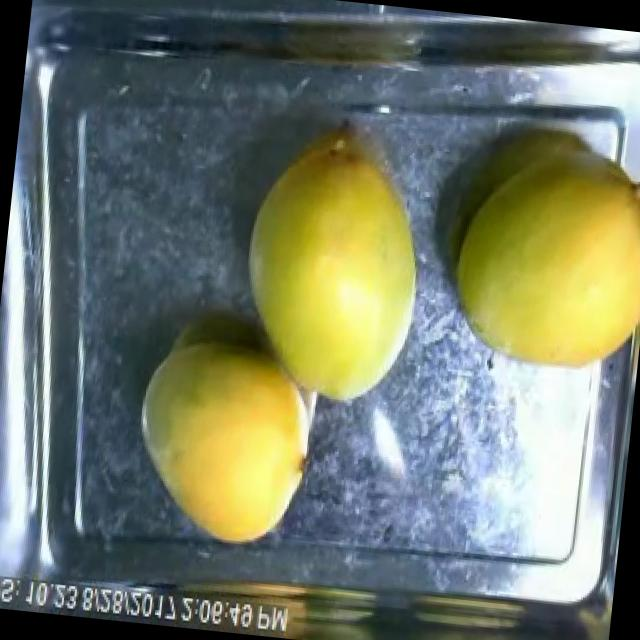fruit: (218, 106, 447, 417), (428, 112, 640, 380), (114, 318, 332, 561)
